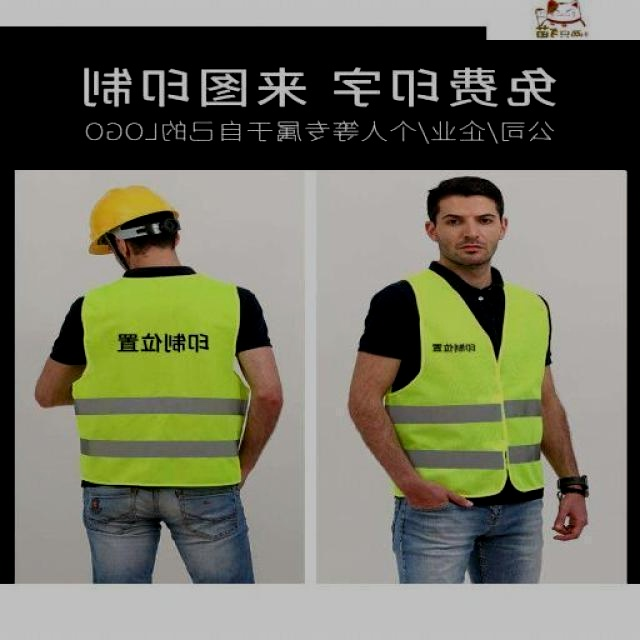gloves: (164, 413, 291, 527), (345, 376, 452, 488), (56, 417, 126, 555)
helmet: (457, 182, 551, 257)
vest: (86, 264, 258, 506), (388, 272, 566, 493)
